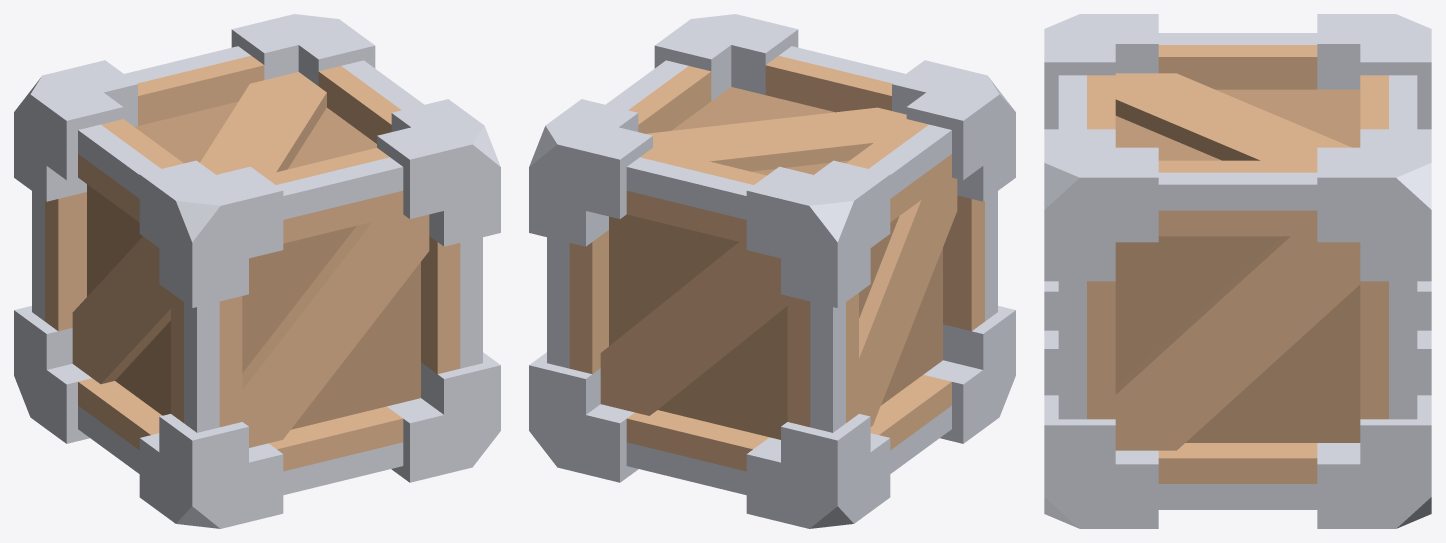
3 views of the same model, side by side, from view 1: azimuth 30°, elevation 25°; view 2: azimuth 150°, elevation 25°; view 3: azimuth 270°, elevation 25° (orthographic). The views are drawn at different scales.
Parts seen in each view (by area): view 1: crateStrong; view 2: crateStrong; view 3: crateStrong.
Boxes of the visible parts, x1,y1,x2,y2 form: crateStrong: (14,14,500,528); crateStrong: (529,14,1015,528); crateStrong: (1044,14,1431,528).
Size of the model in its own units: 0.54 by 0.54 by 0.54.
